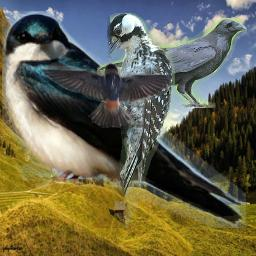Crow: (97, 18, 247, 108)
Swallow: (2, 11, 246, 228), (36, 61, 175, 128)
Woodpecker: (107, 13, 175, 194)
